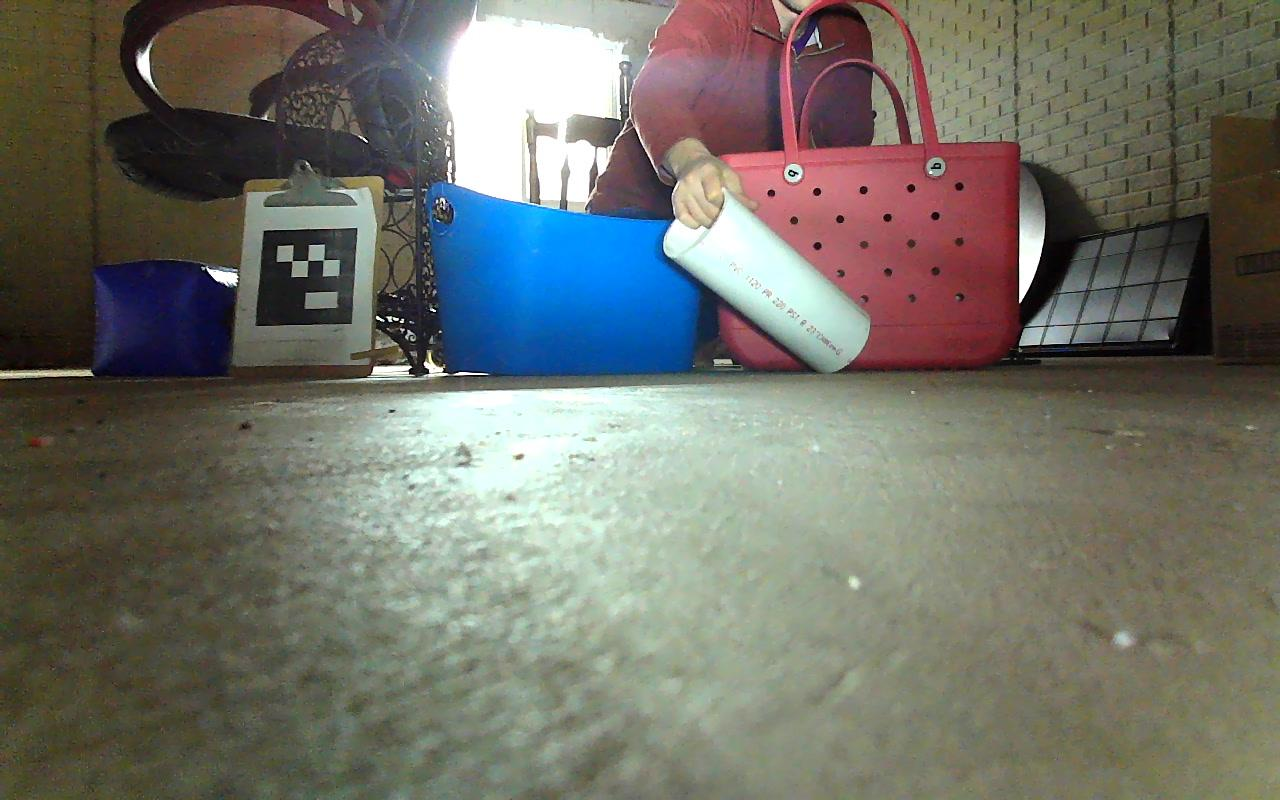coral: (656, 174, 879, 371)
